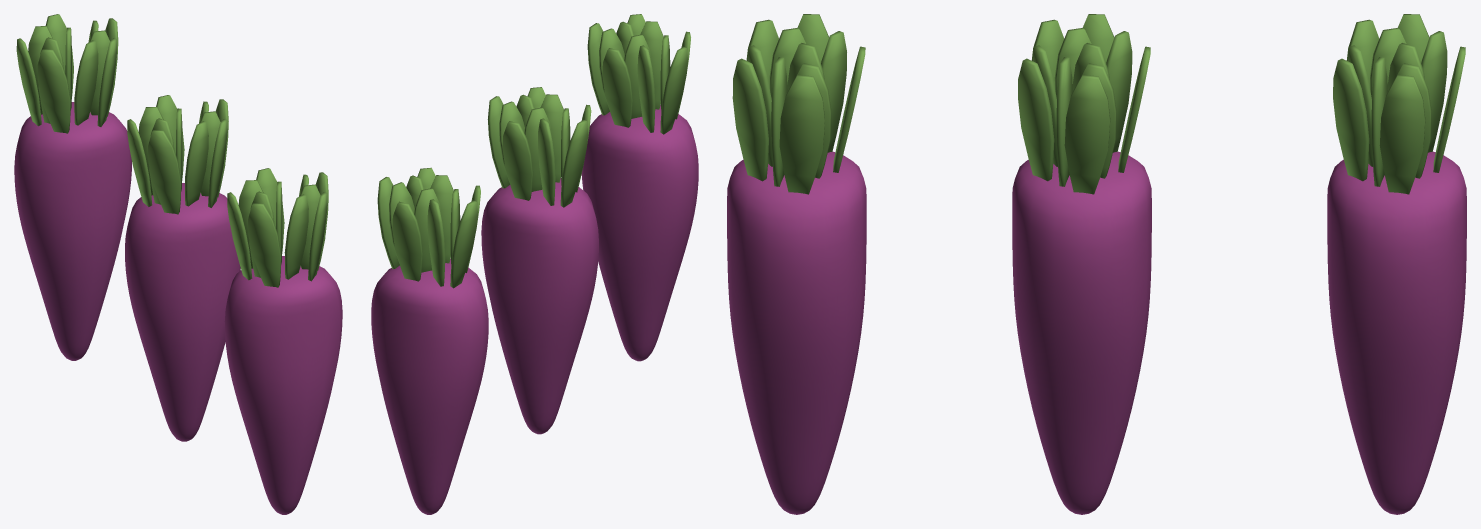
The model's file is Cenouras.fbx.
3 views of the same model, side by side, from view 1: azimuth 30°, elevation 25°; view 2: azimuth 150°, elevation 25°; view 3: azimuth 270°, elevation 25° (orthographic). The views are drawn at different scales.
Parts seen in each view (by area): view 1: Plane.007, Plane.011, Plane, Plane.012, Plane.010, Plane.004; view 2: Plane, Plane.011, Plane.007, Plane.004, Plane.010, Plane.012; view 3: Plane, Plane.011, Plane.007, Plane.012, Plane.004, Plane.010.
Part boxes in pixels (left/top/right/bottom): Plane.007: left=224, top=256, right=342, bottom=514; Plane.011: left=14, top=102, right=131, bottom=360; Plane: left=125, top=183, right=240, bottom=441; Plane.012: left=16, top=14, right=118, bottom=133; Plane.010: left=227, top=168, right=328, bottom=287; Plane.004: left=127, top=95, right=228, bottom=214; Plane: left=481, top=178, right=598, bottom=434; Plane.011: left=371, top=259, right=488, bottom=514; Plane.007: left=581, top=105, right=698, bottom=361; Plane.004: left=487, top=87, right=591, bottom=207; Plane.010: left=587, top=14, right=690, bottom=134; Plane.012: left=377, top=167, right=480, bottom=288; Plane: left=1012, top=151, right=1151, bottom=514; Plane.011: left=1327, top=151, right=1466, bottom=514; Plane.007: left=727, top=151, right=866, bottom=514; Plane.012: left=1333, top=14, right=1465, bottom=194; Plane.004: left=1018, top=14, right=1150, bottom=194; Plane.010: left=732, top=14, right=865, bottom=194.
Bounding box in the file's own units: 30.14 × 89.47 × 128.
Materials: 2 (2 with a texture image).
